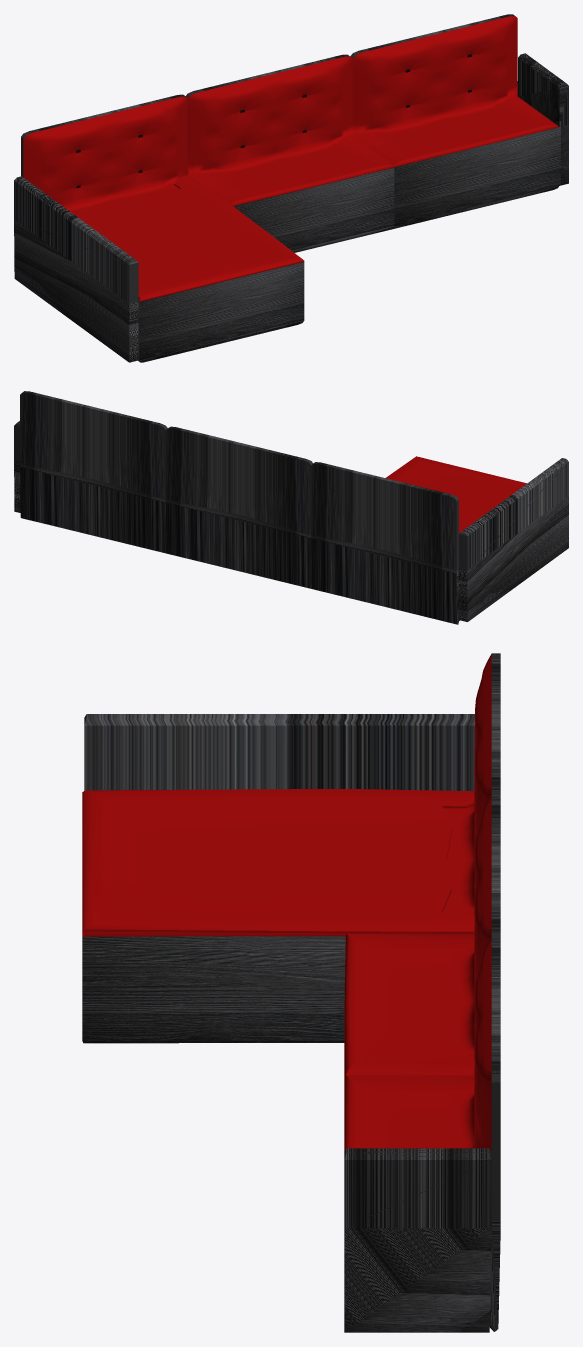
File: L_sofa.fbx
3 renders of one model, top to bottom at view 1: azimuth 30°, elevation 25°; view 2: azimuth 150°, elevation 25°; view 3: azimuth 270°, elevation 25°, orthographic. The views are drawn at different scales.
Parts seen in each view (by area): view 1: pCube10; view 2: pCube10; view 3: pCube10.
Boxes of the visible parts, x1,y1,x2,y2 form: pCube10: (14, 14, 568, 362); pCube10: (14, 391, 568, 624); pCube10: (82, 653, 500, 1332).
Bounding box in the file's own units: 5.7 × 1.54 × 2.28.
3 materials, 1 textured.
